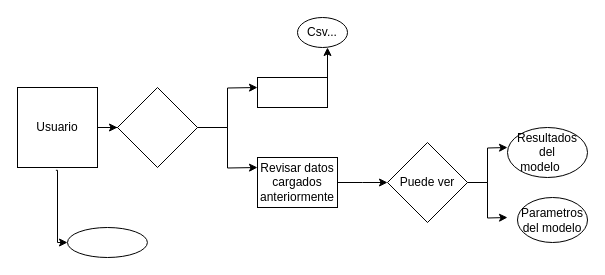
Some shapes in this 605 by 275 pixel diagram are drawn without their labels. Each missing label, with the centre of its shape:
Cargar datos: pixel 292 92
Nombre de usuario: pixel 106 242
Realiza: pixel 157 127
